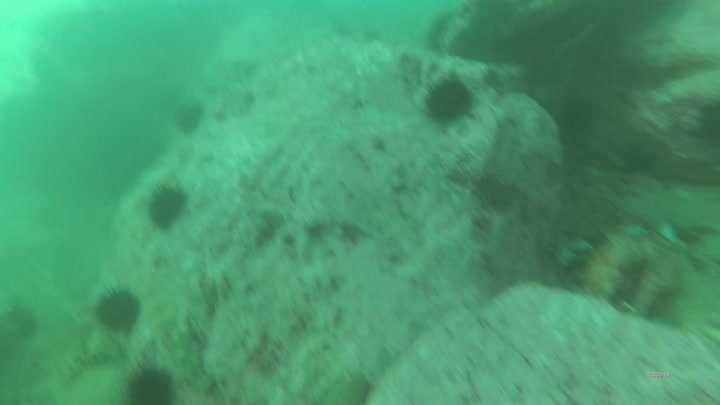echinus: (118, 355, 177, 405), (422, 72, 475, 125), (95, 280, 143, 337), (146, 181, 191, 233), (65, 350, 123, 389), (5, 300, 40, 339), (174, 103, 206, 135)
